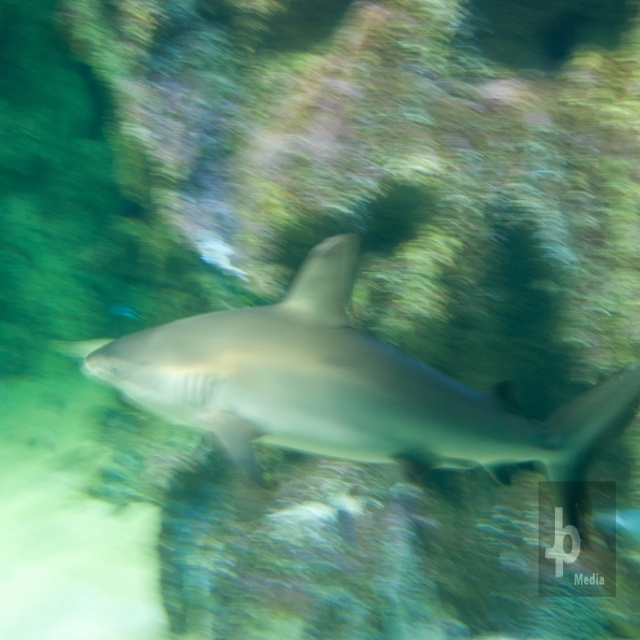Shark: (77, 219, 630, 536)
